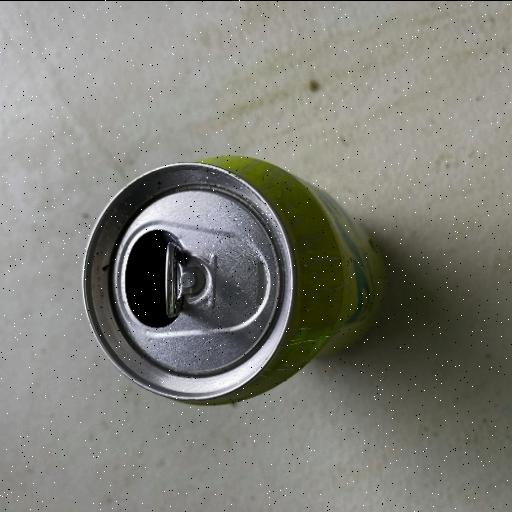Metal: (78, 152, 388, 408)
